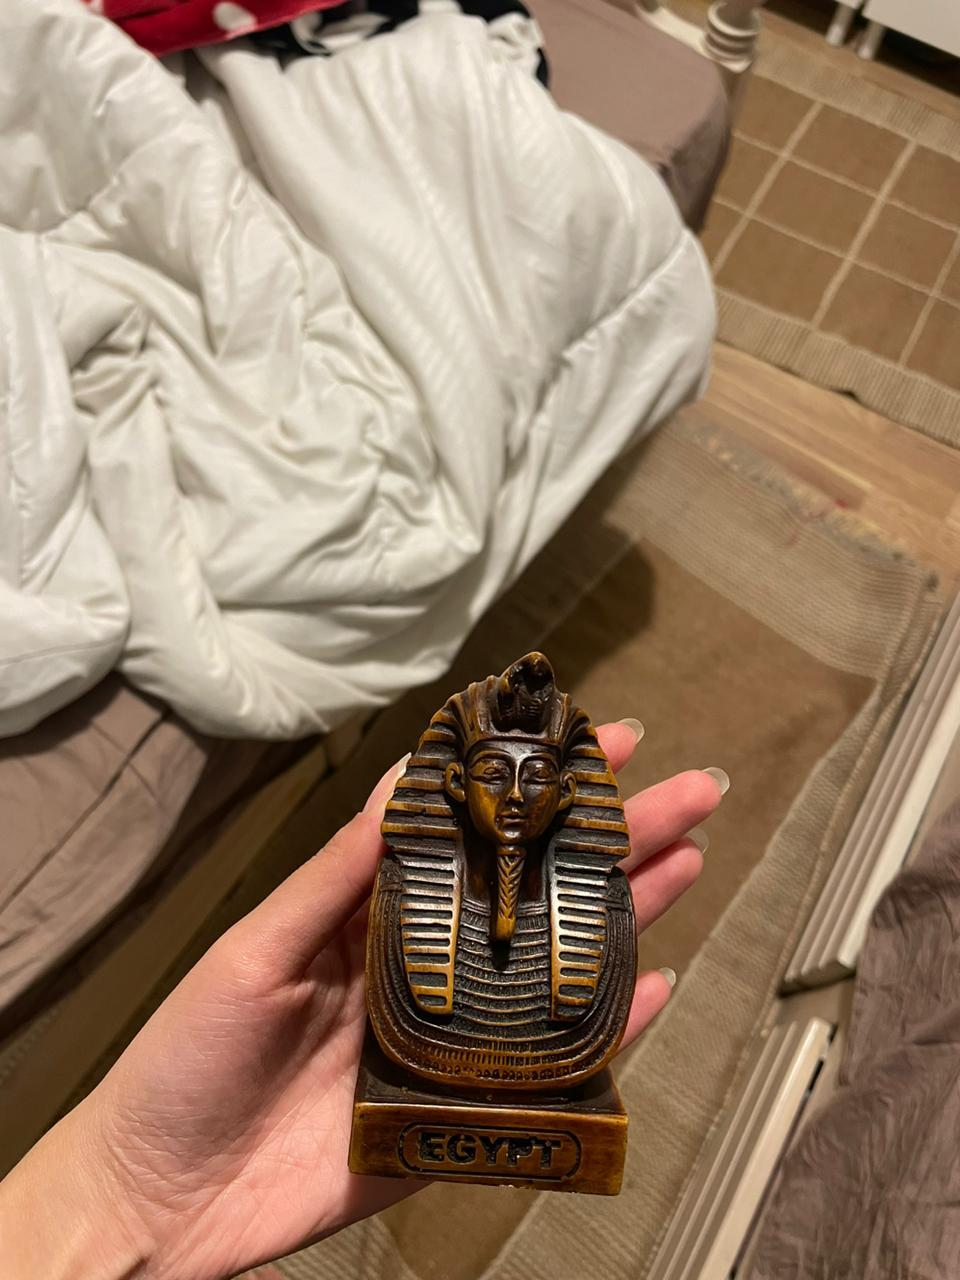Tut: (341, 648, 631, 1200)
